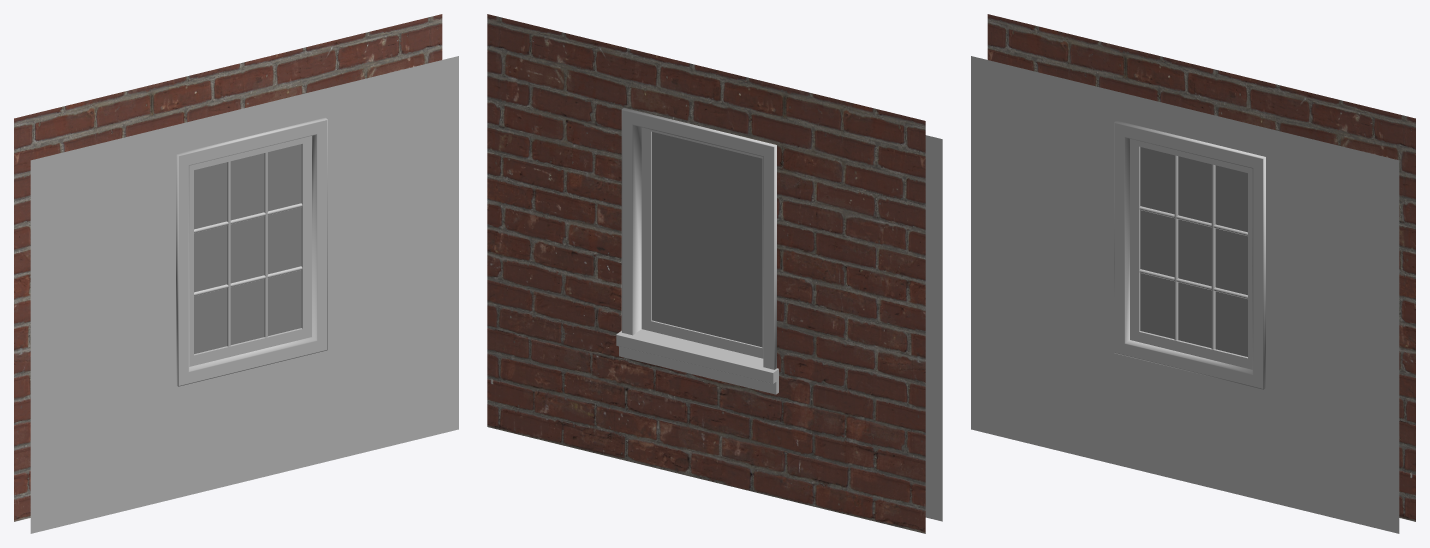
File: In_WallUp_Window_Single_B_3x.FBX
3 renders of one model, left to right at view 1: azimuth 30°, elevation 25°; view 2: azimuth 150°, elevation 25°; view 3: azimuth 330°, elevation 25°, orthographic. The views are drawn at different scales.
Visible parts, largest first — view 1: WallUp_Window_Single_B_3x; view 2: WallUp_Window_Single_B_3x; view 3: WallUp_Window_Single_B_3x.
Part boxes in pixels (x1,y1,x2,y2): WallUp_Window_Single_B_3x: [14, 14, 458, 533]; WallUp_Window_Single_B_3x: [487, 14, 942, 533]; WallUp_Window_Single_B_3x: [971, 14, 1415, 533].
Size of the model in its own units: 300 by 270 by 29.55.
